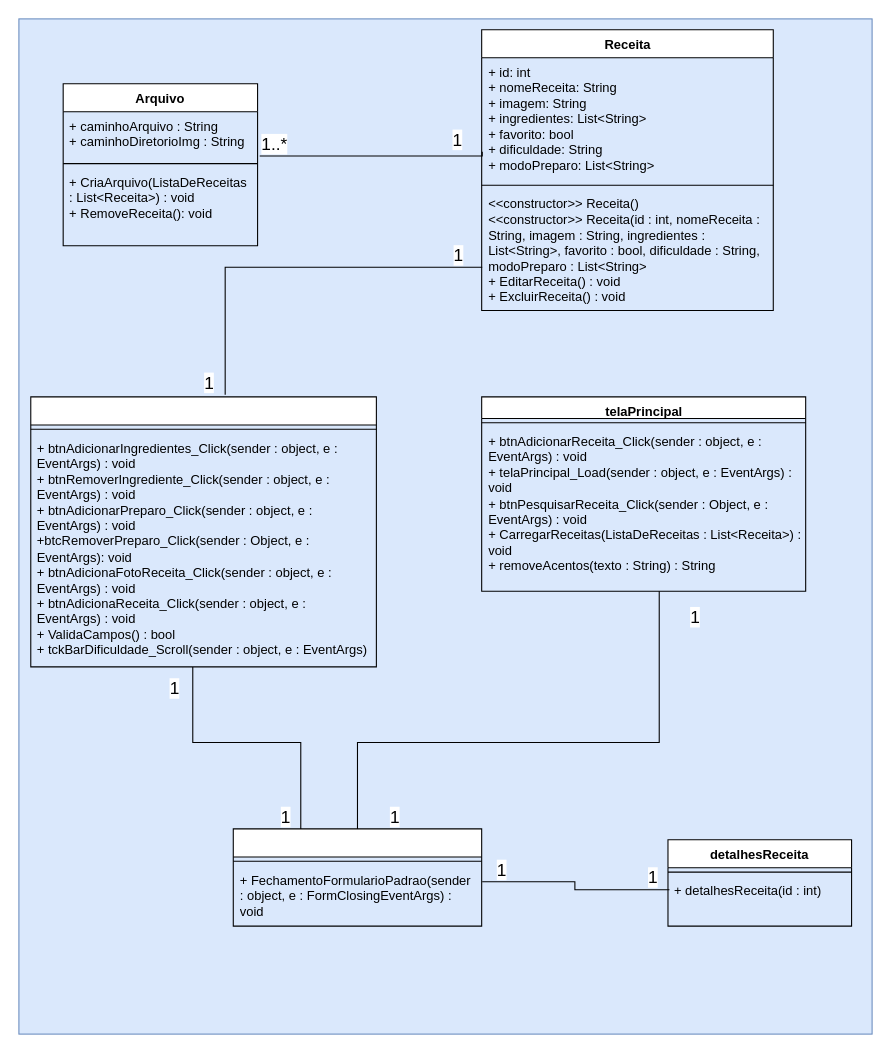
This 891x1053 diagram has some shape labels left out. The box of each missing label's shape, as (x1, y1, x2, y2) in pixels:
adicionarReceita: (30, 396, 376, 667)
BaseForm: (232, 828, 482, 926)
